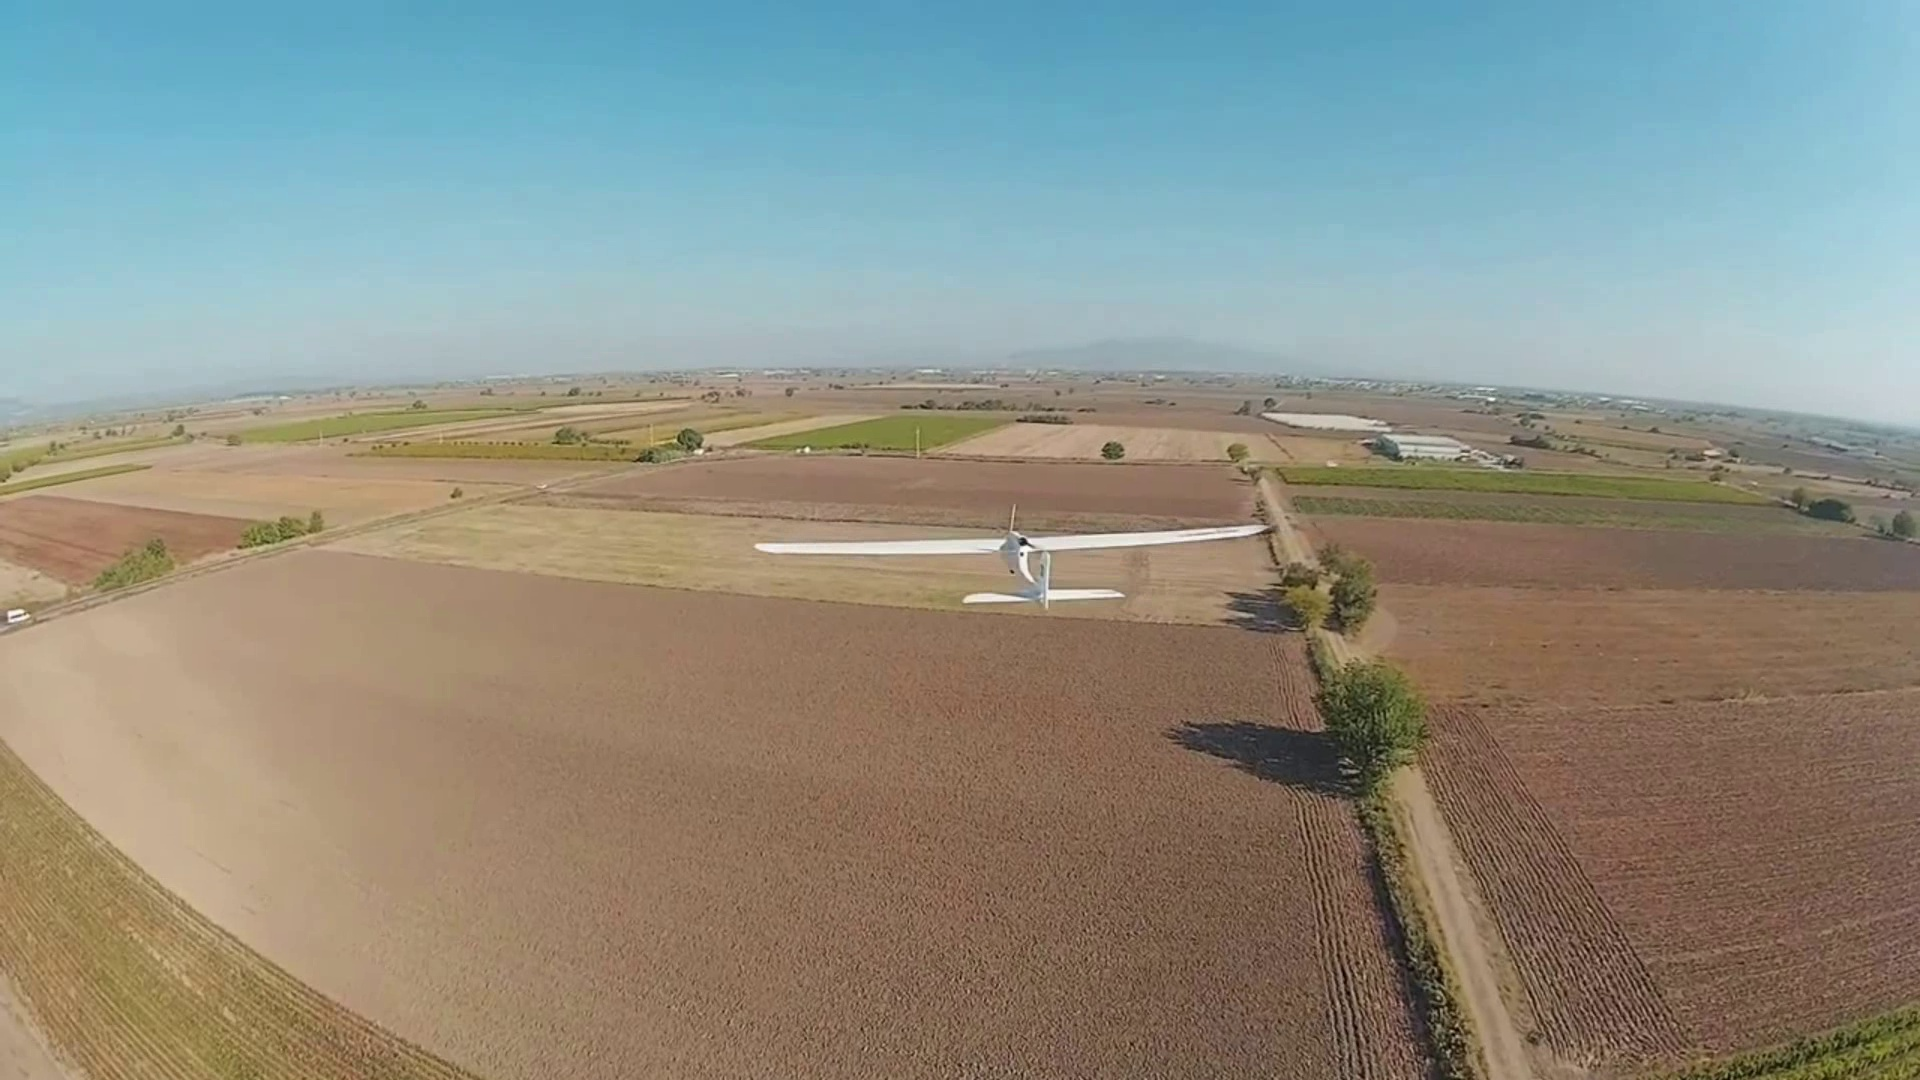airplane: (752, 506, 1265, 611)
